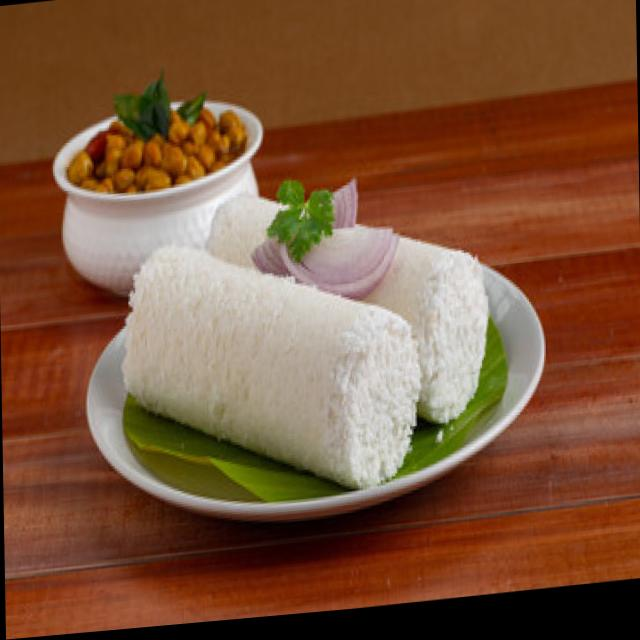CURRY: (66, 101, 253, 190)
PUTTU: (126, 176, 492, 486)
